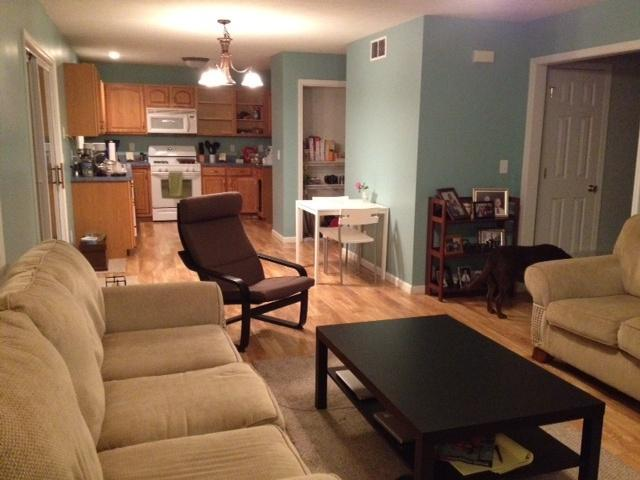Meja: (313, 312, 606, 479), (294, 198, 389, 226)
